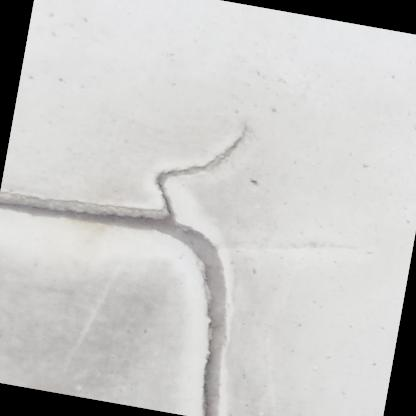Crack: (0, 49, 308, 415)
